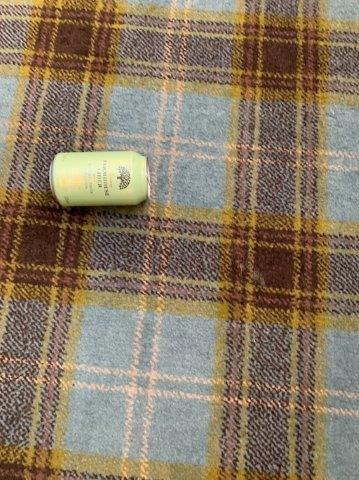kaleng: (48, 152, 150, 206)
